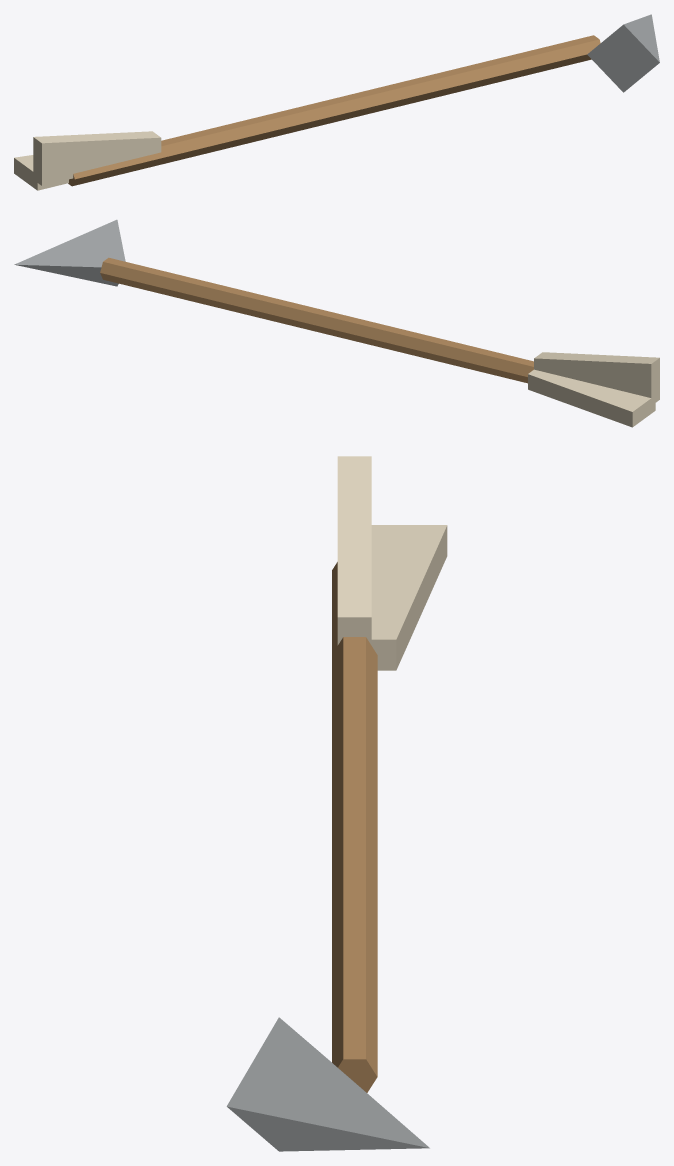
The model's file is SteelArrowStack3.glb.
The picture shows the model from 3 angles, top to bottom: view 1: azimuth 30°, elevation 25°; view 2: azimuth 150°, elevation 25°; view 3: azimuth 270°, elevation 25°; orthographic projection. The views are drawn at different scales.
Parts seen in each view (by area): view 1: SteelArrow_1_shaft, SteelArrow_2_shaft, SteelArrow_1_fletch_v, SteelArrow_3_shaft, SteelArrow_2_fletch_v, SteelArrow_1_head, SteelArrow_2_head, SteelArrow_3_head, SteelArrow_1_fletch_h, SteelArrow_3_fletch_v, SteelArrow_2_fletch_h; view 2: SteelArrow_1_shaft, SteelArrow_3_shaft, SteelArrow_2_shaft, SteelArrow_1_fletch_h, SteelArrow_1_fletch_v, SteelArrow_1_head, SteelArrow_2_fletch_v, SteelArrow_3_head, SteelArrow_2_head, SteelArrow_3_fletch_v; view 3: SteelArrow_1_head, SteelArrow_3_shaft, SteelArrow_1_shaft, SteelArrow_1_fletch_h, SteelArrow_2_shaft, SteelArrow_3_fletch_h, SteelArrow_3_fletch_v, SteelArrow_1_fletch_v, SteelArrow_3_head, SteelArrow_2_fletch_h.
Boxes of the visible parts, x1,y1,x2,y2 form: SteelArrow_1_shaft: [68, 35, 600, 185]; SteelArrow_2_shaft: [69, 54, 591, 185]; SteelArrow_1_fletch_v: [33, 131, 161, 185]; SteelArrow_3_shaft: [72, 90, 368, 186]; SteelArrow_2_fletch_v: [33, 135, 161, 185]; SteelArrow_1_head: [587, 14, 659, 92]; SteelArrow_2_head: [588, 18, 657, 91]; SteelArrow_3_head: [624, 15, 659, 62]; SteelArrow_1_fletch_h: [14, 158, 68, 190]; SteelArrow_3_fletch_v: [34, 131, 142, 181]; SteelArrow_2_fletch_h: [14, 159, 68, 189]; SteelArrow_1_shaft: [100, 257, 533, 382]; SteelArrow_3_shaft: [100, 262, 533, 368]; SteelArrow_2_shaft: [161, 282, 533, 383]; SteelArrow_1_fletch_h: [528, 369, 655, 427]; SteelArrow_1_fletch_v: [534, 352, 659, 402]; SteelArrow_1_head: [15, 219, 124, 284]; SteelArrow_2_fletch_v: [534, 352, 659, 404]; SteelArrow_3_head: [19, 220, 125, 285]; SteelArrow_2_head: [14, 220, 124, 286]; SteelArrow_3_fletch_v: [537, 352, 659, 394]; SteelArrow_1_head: [227, 1017, 429, 1151]; SteelArrow_3_shaft: [332, 562, 377, 1090]; SteelArrow_1_shaft: [332, 720, 377, 1092]; SteelArrow_1_fletch_h: [369, 525, 447, 670]; SteelArrow_2_shaft: [332, 637, 377, 1092]; SteelArrow_3_fletch_h: [368, 525, 447, 668]; SteelArrow_3_fletch_v: [337, 456, 371, 644]; SteelArrow_1_fletch_v: [337, 456, 371, 644]; SteelArrow_3_head: [227, 1027, 428, 1147]; SteelArrow_2_fletch_h: [371, 528, 446, 670].
Bounding box in the file's own units: 1.01 × 0.117 × 0.1548.
